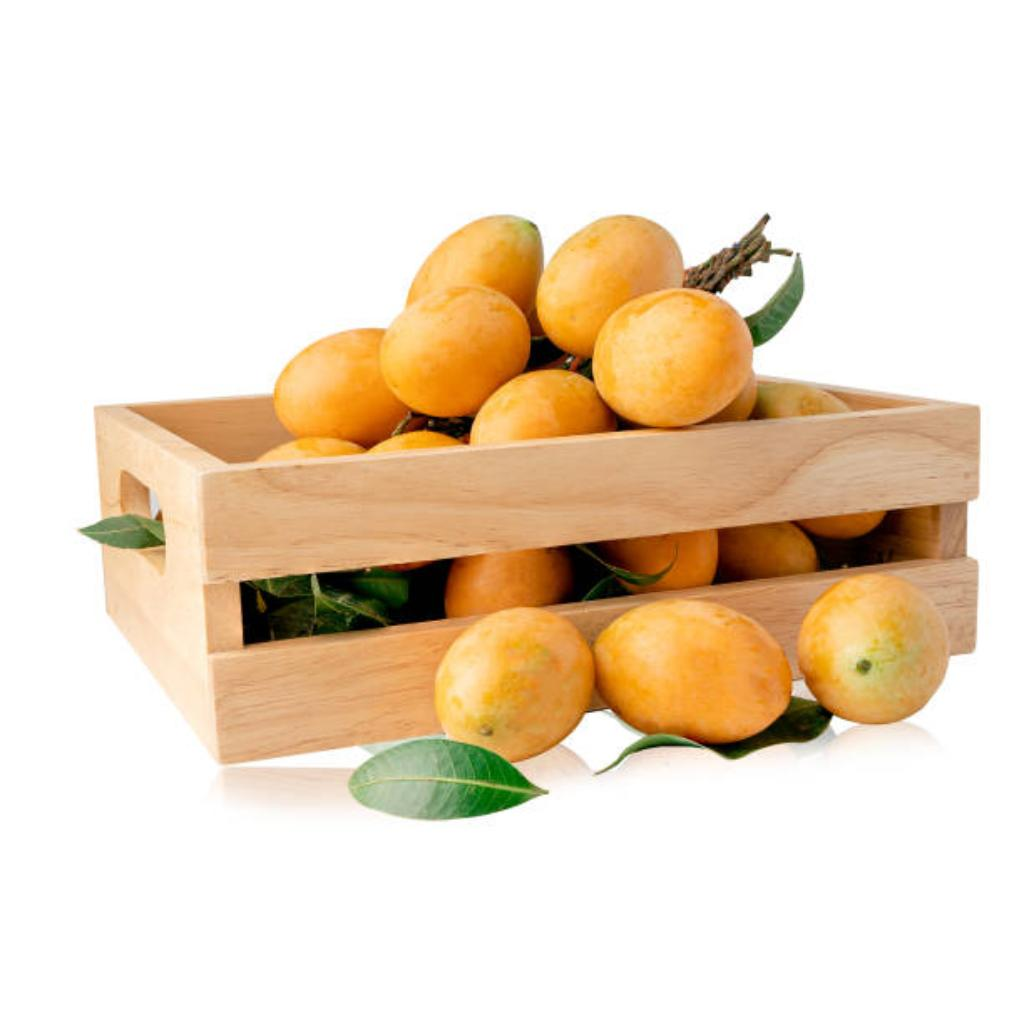mango: (594, 599, 790, 744), (434, 609, 594, 762), (798, 575, 950, 724), (592, 289, 754, 428), (536, 215, 682, 356), (380, 285, 530, 417), (274, 329, 408, 446), (406, 215, 542, 313), (470, 371, 616, 445), (444, 547, 574, 619), (598, 531, 718, 593), (720, 523, 818, 580)
